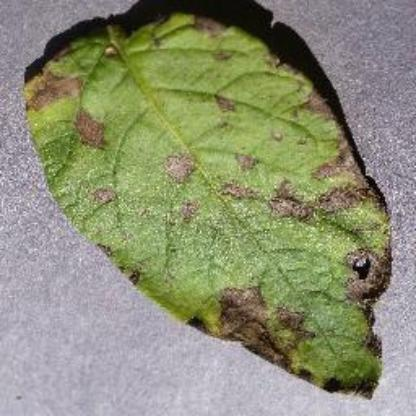Early-Blight: (22, 17, 398, 402)
